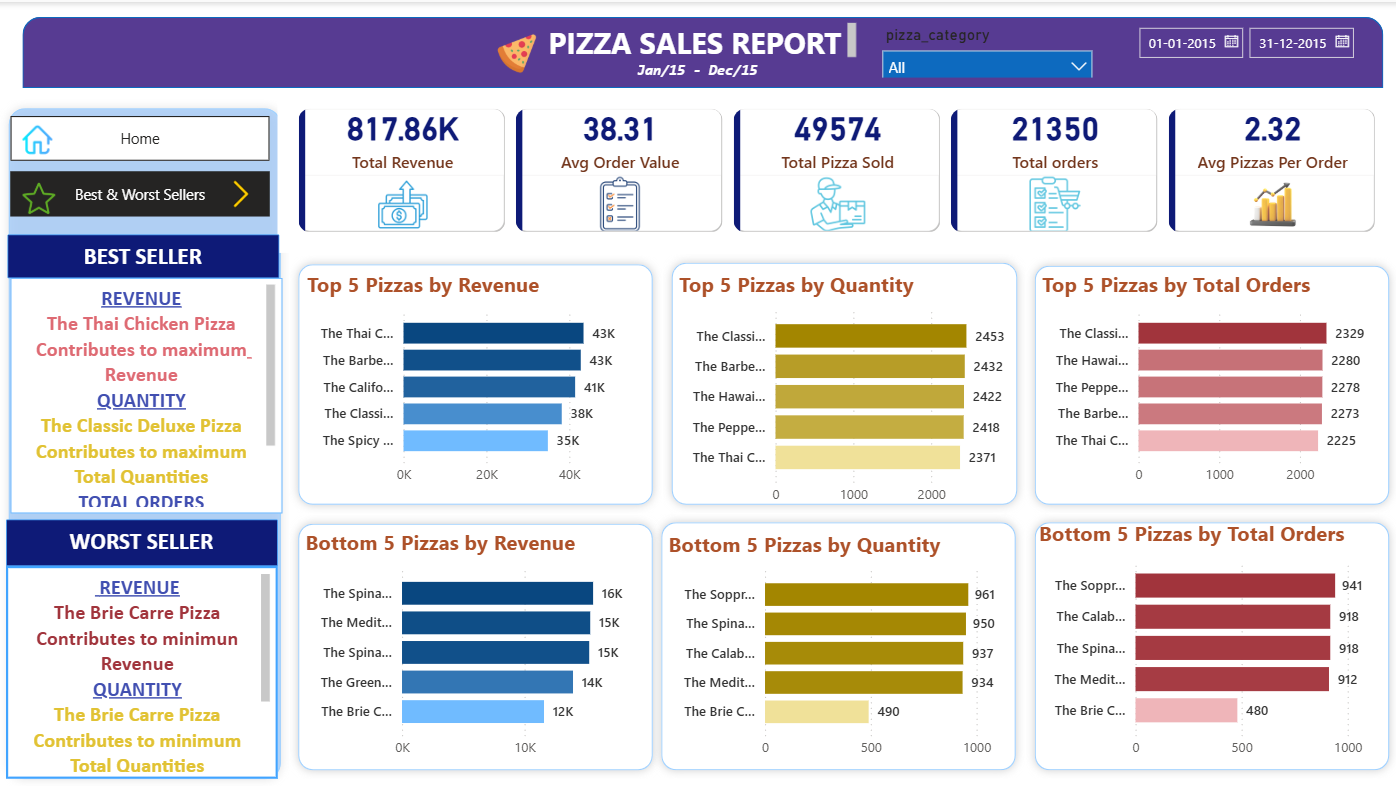

Layout of this report page (visuals, bound fields, positions):
{"tool":"powerbi","page":{"name":"Best & Worst Sellers","canvas":[1280,720],"ordinal":1},"visuals":[{"type":"shape","box":[0,89.3,265,629.9],"z":0},{"type":"cardVisual","fields":{"Data":["pizza_sales.Total Revenue","pizza_sales.Avg Order Value","pizza_sales.Total Pizza Sold","pizza_sales.Total orders","pizza_sales.Avg Pizzas Per Order"]},"box":[254.4,78.7,1025.1,151.4],"z":1000},{"type":"shape","box":[20,13.3,1245,65],"z":2000},{"type":"textbox","box":[491.7,13.3,296.7,43.3],"z":3000},{"type":"textbox","box":[578.3,46.7,128.3,41.7],"z":4000},{"type":"image","box":[441.7,28.3,61.7,36.7],"z":5000},{"type":"textbox","box":[6.9,212.7,248.4,39.8],"z":6000},{"type":"textbox","box":[9.6,252.5,248.4,215.5],"z":7000},{"type":"textbox","box":[5.5,516,248.4,194.9],"z":8000},{"type":"textbox","box":[5.5,473.5,248.4,42.5],"z":9000},{"type":"slicer","title":"Pizza Category","fields":{"Values":["pizza_sales.pizza_category"]},"box":[798,16.7,212,53],"z":10000},{"type":"slicer","title":"Pizza Category","fields":{"Values":["pizza_sales.order_date"]},"box":[1029.7,13.6,224.1,65.1],"z":11000},{"type":"shape","box":[938.7,233.3,340.3,234.7],"z":12000},{"type":"shape","box":[264.9,231.9,340.3,236],"z":13000},{"type":"shape","box":[606.6,230.6,332.1,237.4],"z":14000},{"type":"shape","box":[264.9,469.3,340.3,241.5],"z":15000},{"type":"shape","box":[597,468,340.3,242.9],"z":16000},{"type":"shape","box":[938.7,468,340.3,242.9],"z":17000},{"type":"barChart","title":"Top 5 Pizzas by Revenue","fields":{"Category":["pizza_sales.pizza_name"],"Y":["pizza_sales.Total Revenue"]},"box":[275.8,245.6,321.1,204.5],"z":18000},{"type":"barChart","title":"Bottom 5 Pizzas by Revenue","fields":{"Category":["pizza_sales.pizza_name"],"Y":["pizza_sales.Total Revenue"]},"box":[274.5,481.7,321.1,218.2],"z":19000},{"type":"barChart","title":"Top 5 Pizzas by Quantity","fields":{"Category":["pizza_sales.pizza_name"],"Y":["pizza_sales.Total Pizza Sold"]},"box":[616.2,245.6,321.1,222.3],"z":20000},{"type":"barChart","title":"Bottom 5 Pizzas by Quantity","fields":{"Category":["pizza_sales.pizza_name"],"Y":["pizza_sales.Total Pizza Sold"]},"box":[606.6,483.1,321.1,216.8],"z":21000},{"type":"barChart","title":"Top 5 Pizzas by Total Orders","fields":{"Category":["pizza_sales.pizza_name"],"Y":["pizza_sales.Total orders"]},"box":[948.3,245.6,319.8,204.5],"z":22000},{"type":"barChart","title":"Bottom 5 Pizzas by Total Orders","fields":{"Category":["pizza_sales.pizza_name"],"Y":["pizza_sales.Total orders"]},"box":[945.5,473.5,318.4,226.4],"z":23000},{"type":"pageNavigator","box":[9.6,155.1,237.4,41.2],"z":24000},{"type":"pageNavigator","box":[9.6,104.3,237.4,41.2],"z":24001},{"type":"image","box":[193.5,163.3,53.5,24.7],"z":24002},{"type":"image","box":[20.6,107,27.4,38.4],"z":24003},{"type":"image","box":[20.6,164.7,30.2,30.2],"z":24004}]}

Visuals, with their boxes in screenshot pixels (x1, y1, x2, y2), scaled from the page's 1280x720 canvas onto the 1396x786 screenshot:
shape: box(0, 97, 289, 785)
cardVisual - pizza_sales.Total Revenue x pizza_sales.Avg Order Value: box(277, 86, 1395, 251)
shape: box(22, 15, 1380, 85)
textbox: box(536, 15, 860, 62)
textbox: box(631, 51, 771, 97)
image: box(482, 31, 549, 71)
textbox: box(8, 232, 278, 276)
textbox: box(10, 276, 281, 511)
textbox: box(6, 563, 277, 776)
textbox: box(6, 517, 277, 563)
"Pizza Category" slicer: box(870, 18, 1102, 76)
"Pizza Category" slicer: box(1123, 15, 1367, 86)
shape: box(1024, 255, 1395, 511)
shape: box(289, 253, 660, 511)
shape: box(662, 252, 1024, 511)
shape: box(289, 512, 660, 776)
shape: box(651, 511, 1022, 776)
shape: box(1024, 511, 1395, 776)
"Top 5 Pizzas by Revenue" barChart: box(301, 268, 651, 491)
"Bottom 5 Pizzas by Revenue" barChart: box(299, 526, 650, 764)
"Top 5 Pizzas by Quantity" barChart: box(672, 268, 1022, 511)
"Bottom 5 Pizzas by Quantity" barChart: box(662, 527, 1012, 764)
"Top 5 Pizzas by Total Orders" barChart: box(1034, 268, 1383, 491)
"Bottom 5 Pizzas by Total Orders" barChart: box(1031, 517, 1378, 764)
pageNavigator: box(10, 169, 269, 214)
pageNavigator: box(10, 114, 269, 159)
image: box(211, 178, 269, 205)
image: box(22, 117, 52, 159)
image: box(22, 180, 55, 213)
